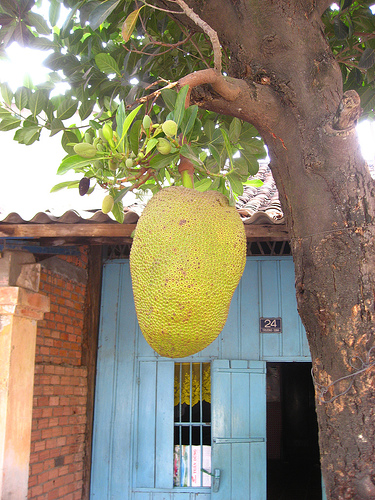jackfruit: (128, 186, 247, 360)
